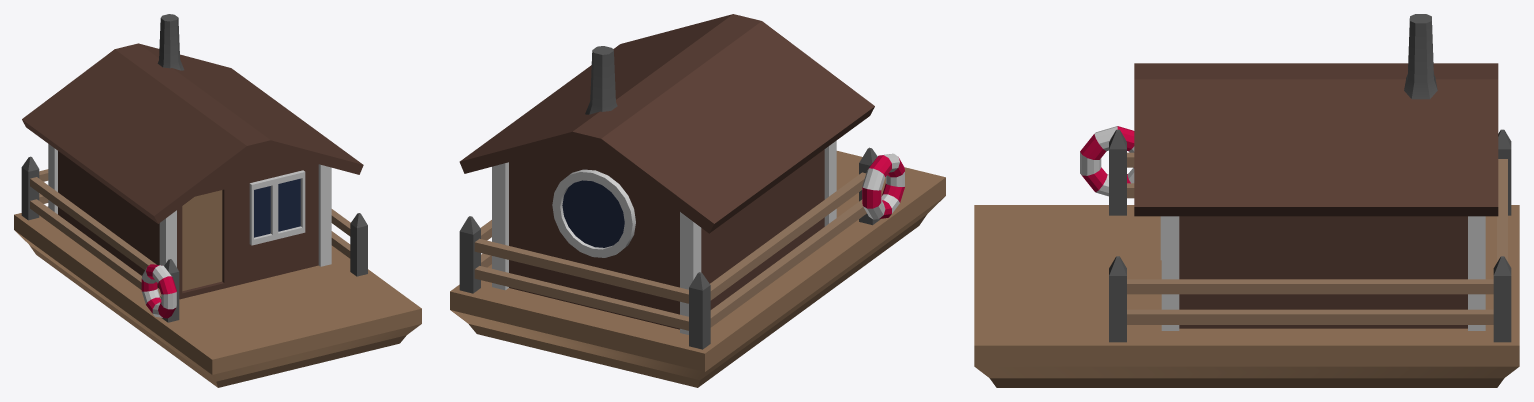
Rendered from Sauna_Raft.fbx.
3 views of the same model, side by side, from view 1: azimuth 30°, elevation 25°; view 2: azimuth 150°, elevation 25°; view 3: azimuth 270°, elevation 25° (orthographic). The views are drawn at different scales.
Parts seen in each view (by area): view 1: pCube28; view 2: pCube28; view 3: pCube28.
Part boxes in pixels (x1=…): pCube28: x1=14, y1=14, x2=421, y2=387; pCube28: x1=450, y1=14, x2=945, y2=387; pCube28: x1=974, y1=14, x2=1519, y2=387.
Size of the model in its own units: 12.26 by 12.48 by 19.37.
